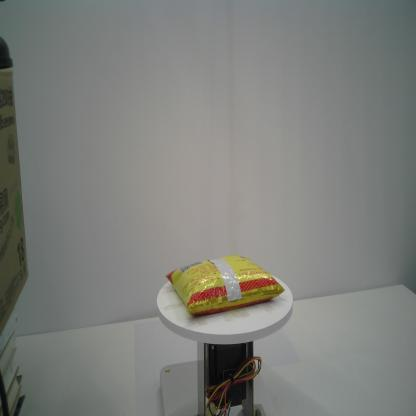Seasoner: (166, 255, 286, 317)
